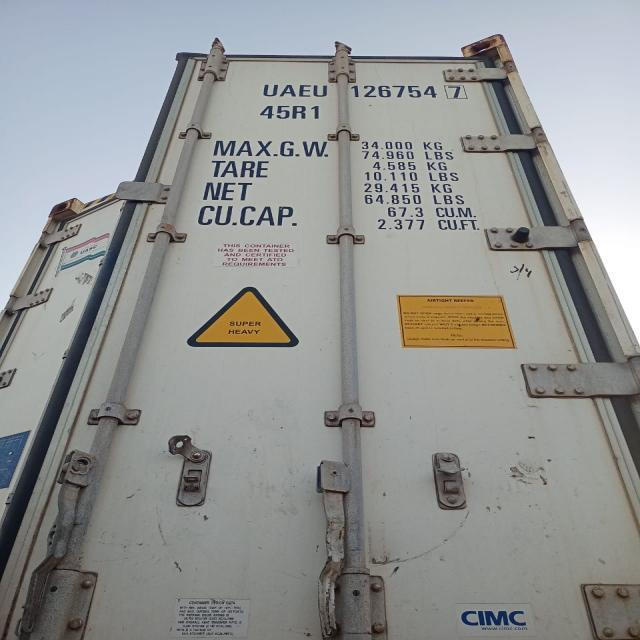ISO: (262, 106, 322, 120)
container_number: (262, 76, 470, 103)
